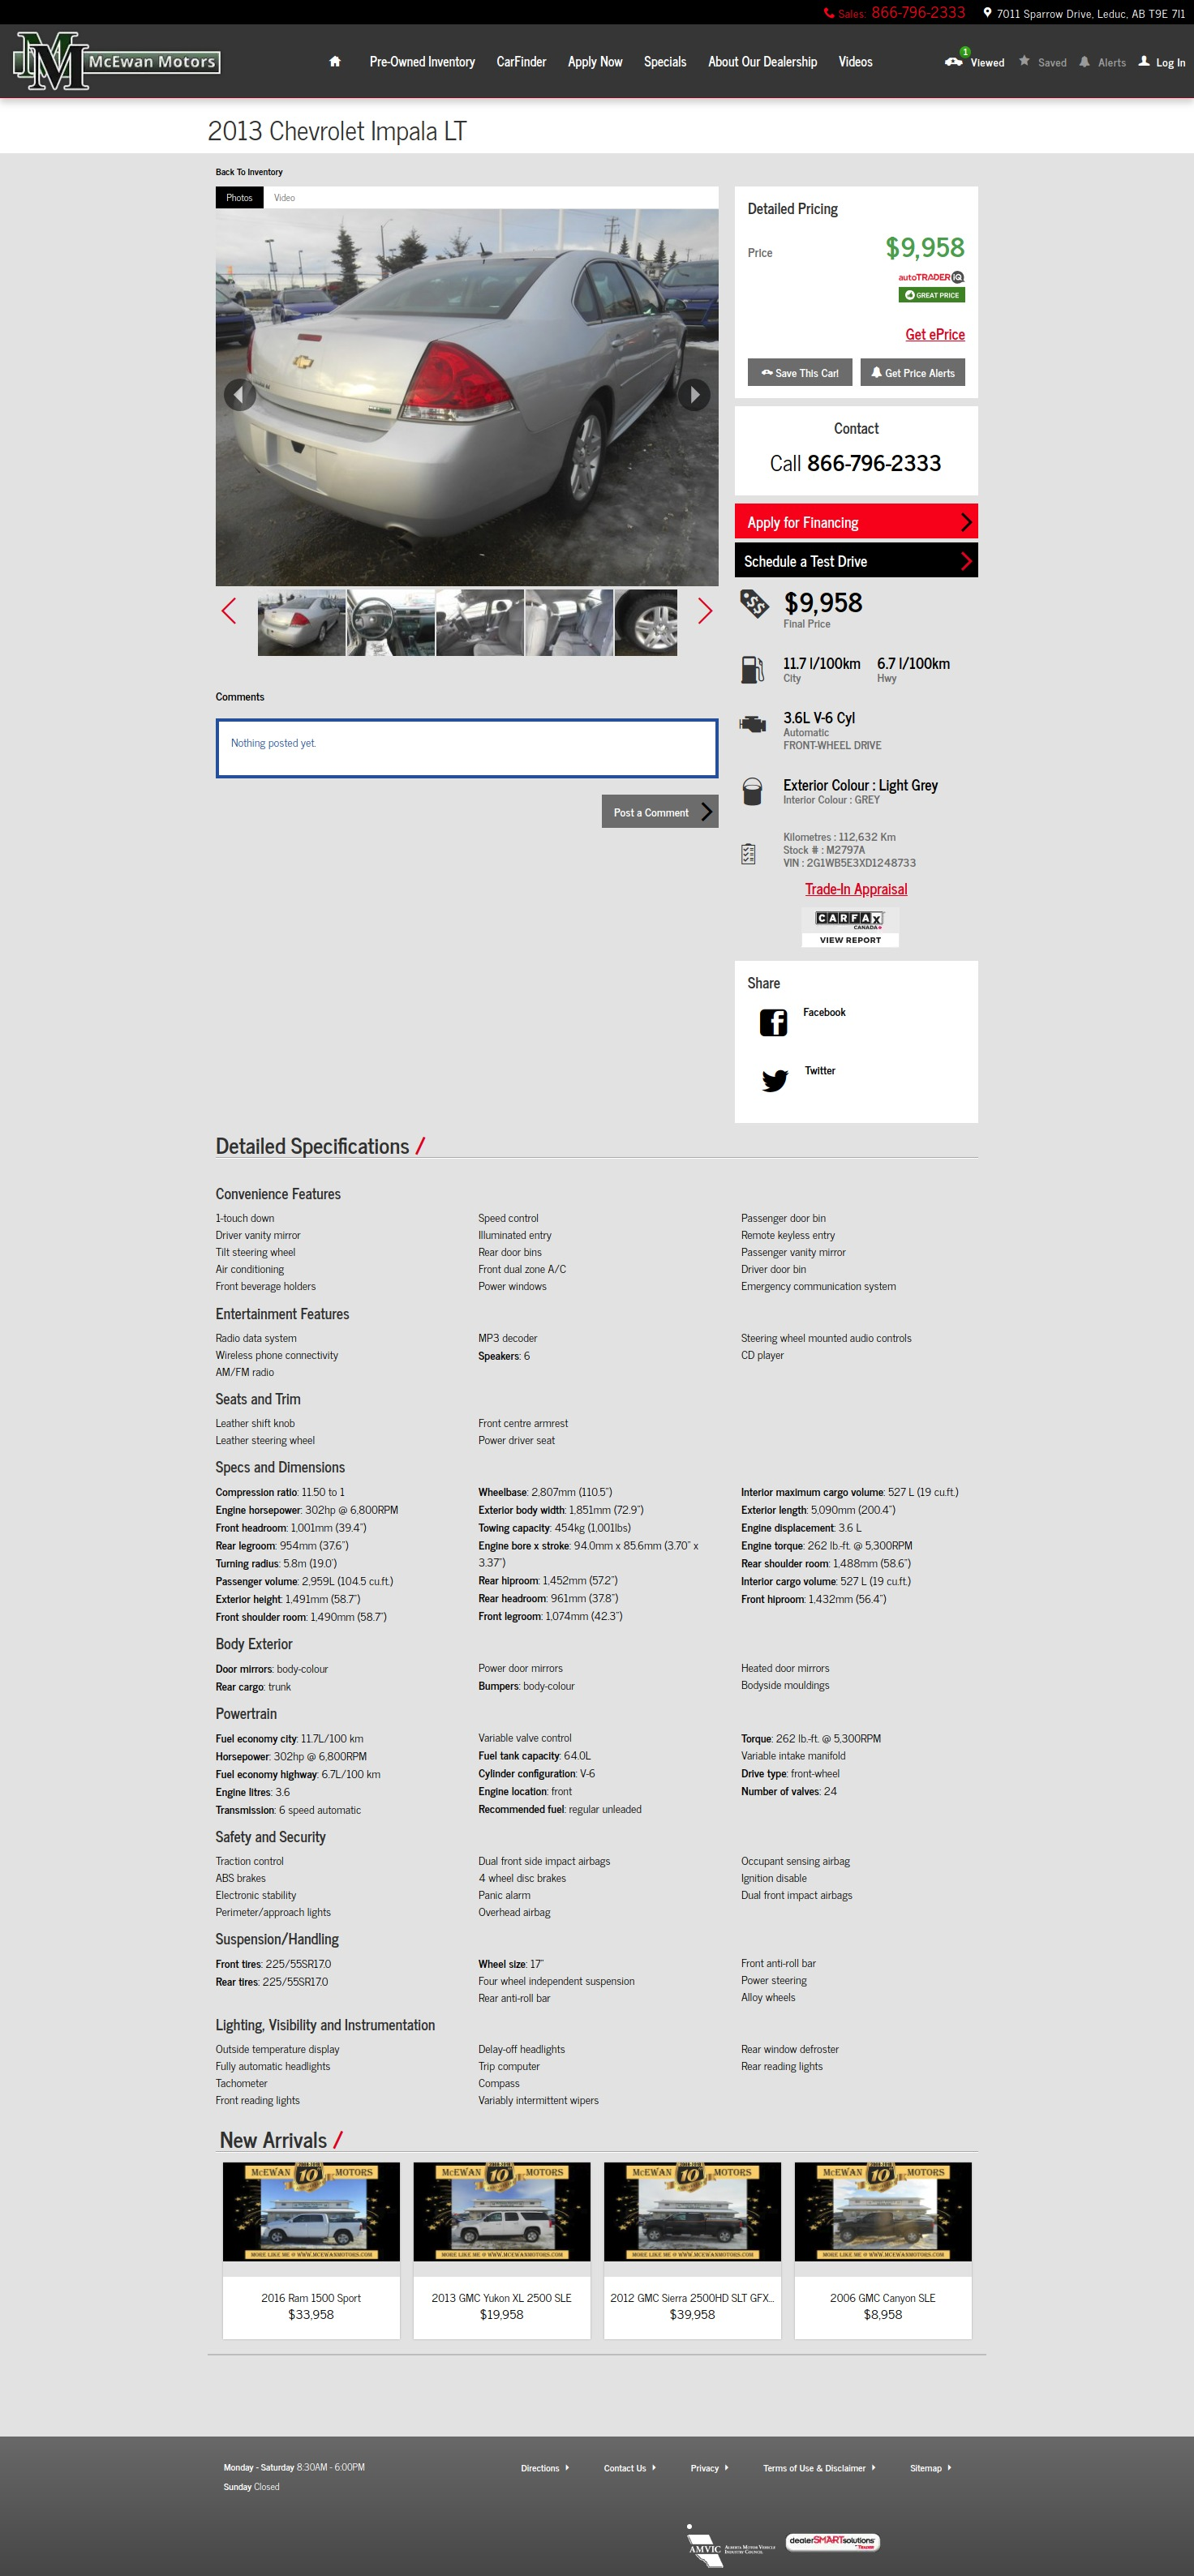car: (696, 598, 714, 626)
